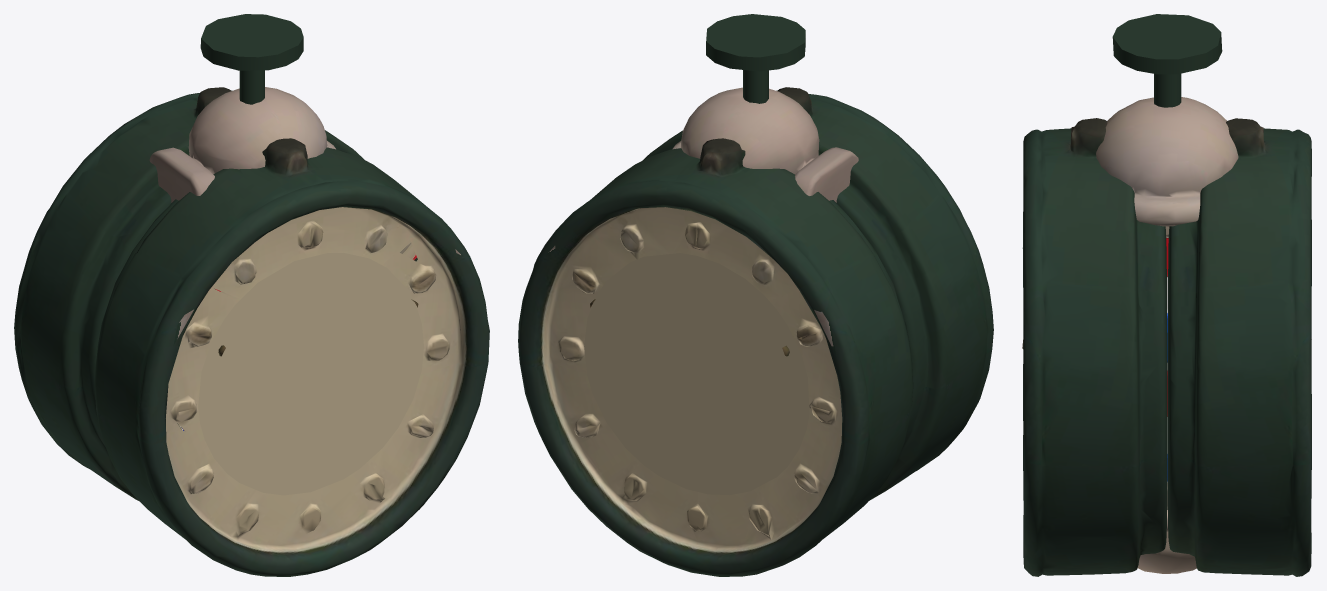
Rendered from enseignes.glb.
3 views of the same model, side by side, from view 1: azimuth 30°, elevation 25°; view 2: azimuth 150°, elevation 25°; view 3: azimuth 270°, elevation 25° (orthographic). The views are drawn at different scales.
Visible parts, largest first — view 1: horloge-gare, barbier-poteau; view 2: horloge-gare, barbier-poteau; view 3: horloge-gare, barbier-poteau.
Part boxes in pixels (<box>): horloge-gare: <box>14,14,489,576</box>; barbier-poteau: <box>149,87,335,202</box>; horloge-gare: <box>518,14,993,576</box>; barbier-poteau: <box>672,87,858,202</box>; horloge-gare: <box>1022,14,1311,576</box>; barbier-poteau: <box>1096,97,1238,573</box>.
Bounding box in the file's own units: 0.595 × 0.7999 × 0.4035.
Materials: 1 (1 with a texture image).
